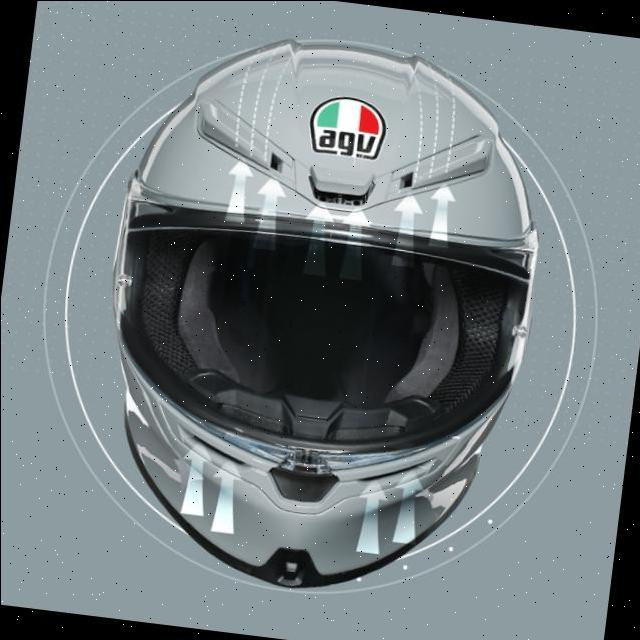Helm: (75, 16, 569, 616)
